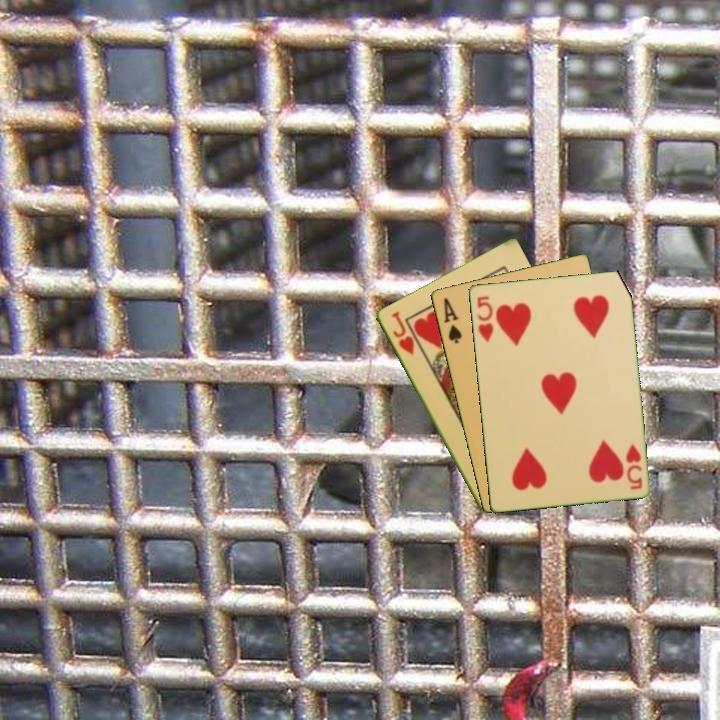5h: (473, 292, 496, 345), (622, 440, 645, 492)
As: (440, 294, 464, 346)
Jh: (388, 307, 417, 358)
